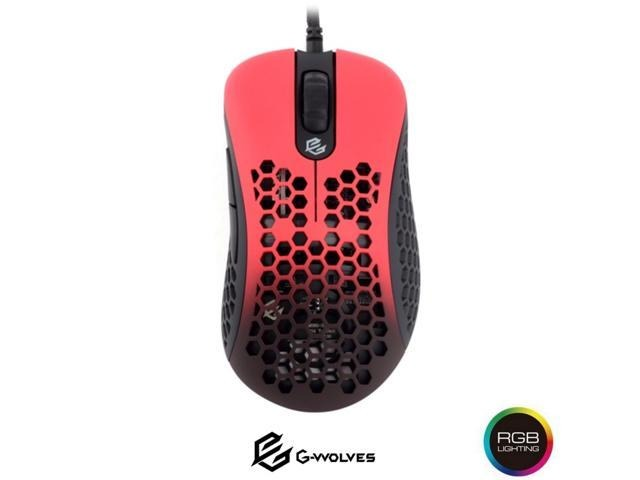mouse: (196, 34, 425, 421)
